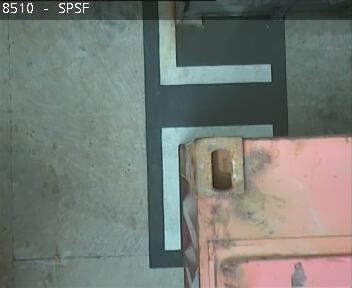groundmarker_1: (157, 2, 273, 249)
